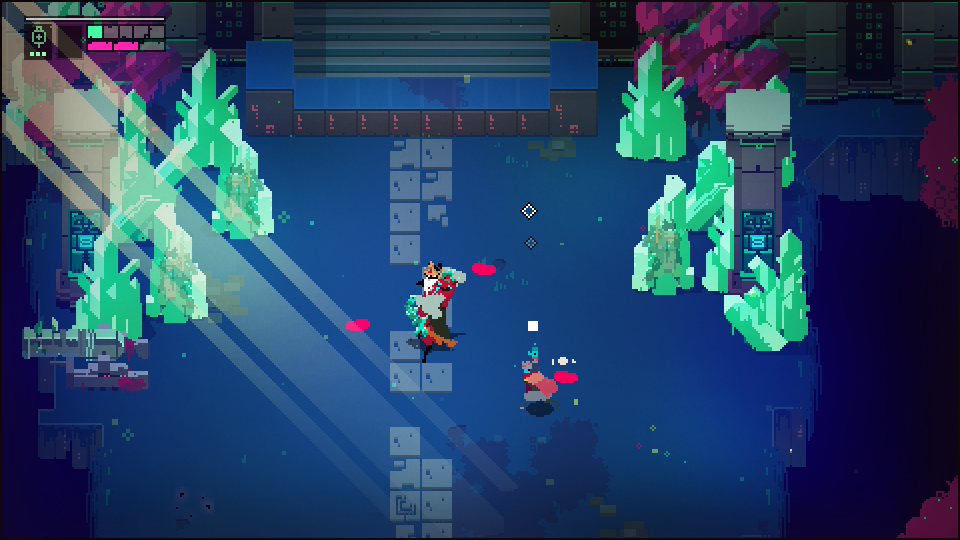hanged_man: (403, 265, 466, 350)
player: (517, 362, 558, 413)
